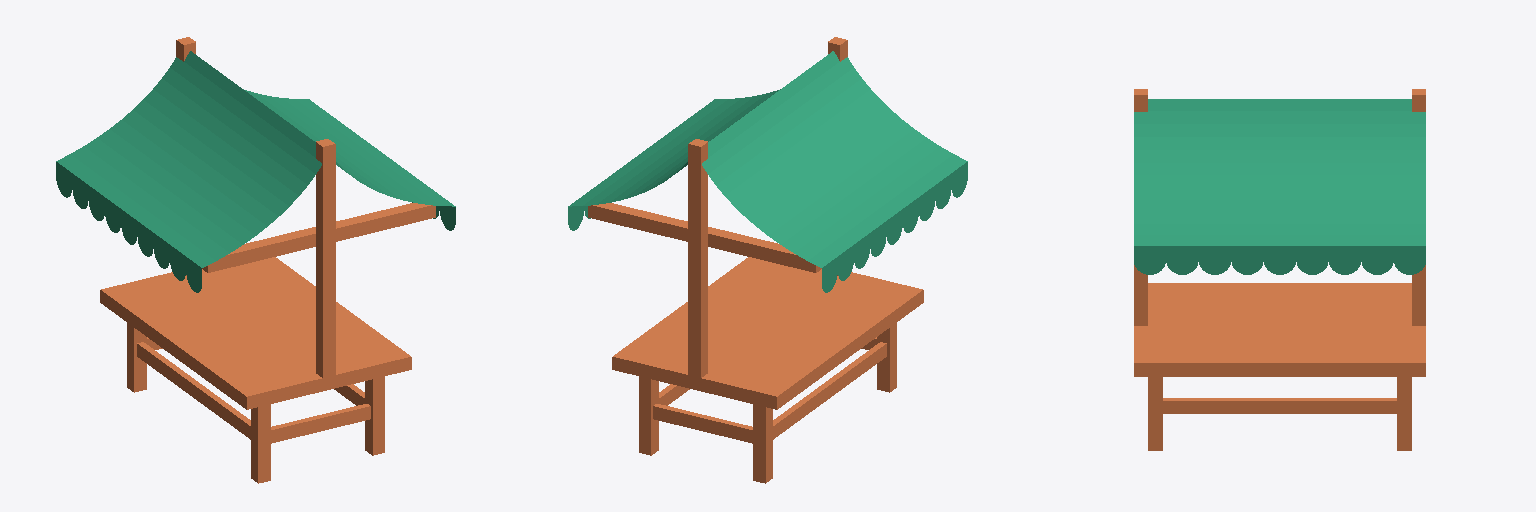
The model's file is stallGreen.obj.
3 views of the same model, side by side, from view 1: azimuth 30°, elevation 25°; view 2: azimuth 150°, elevation 25°; view 3: azimuth 270°, elevation 25° (orthographic).
Visible parts, largest first — view 1: stallGreen; view 2: stallGreen; view 3: stallGreen.
Part boxes in pixels (left/top/right/bottom): stallGreen: left=56, top=37, right=455, bottom=483; stallGreen: left=568, top=37, right=967, bottom=483; stallGreen: left=1134, top=89, right=1425, bottom=450.
Bounding box in the file's own units: 1 × 1.24 × 1.